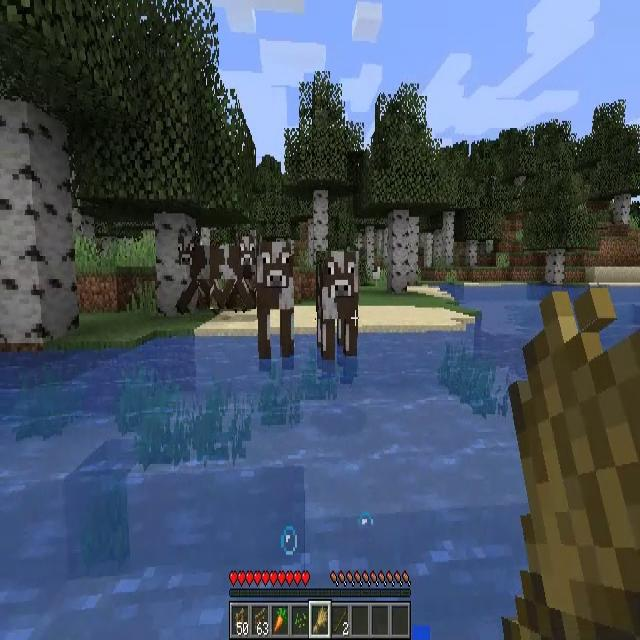cow: (316, 252, 359, 378), (255, 241, 295, 357), (210, 230, 256, 309), (178, 233, 214, 311)
